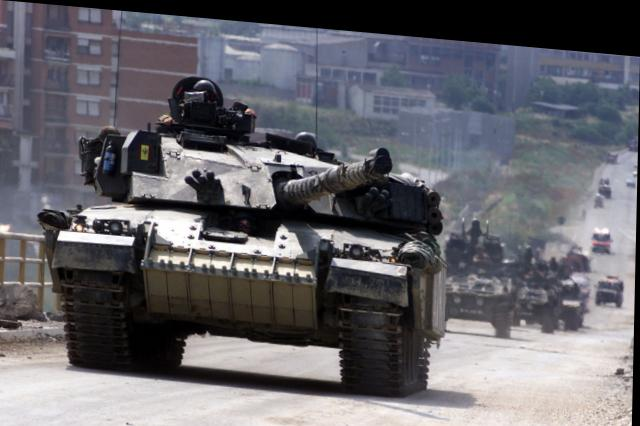tank: (46, 69, 450, 396)
